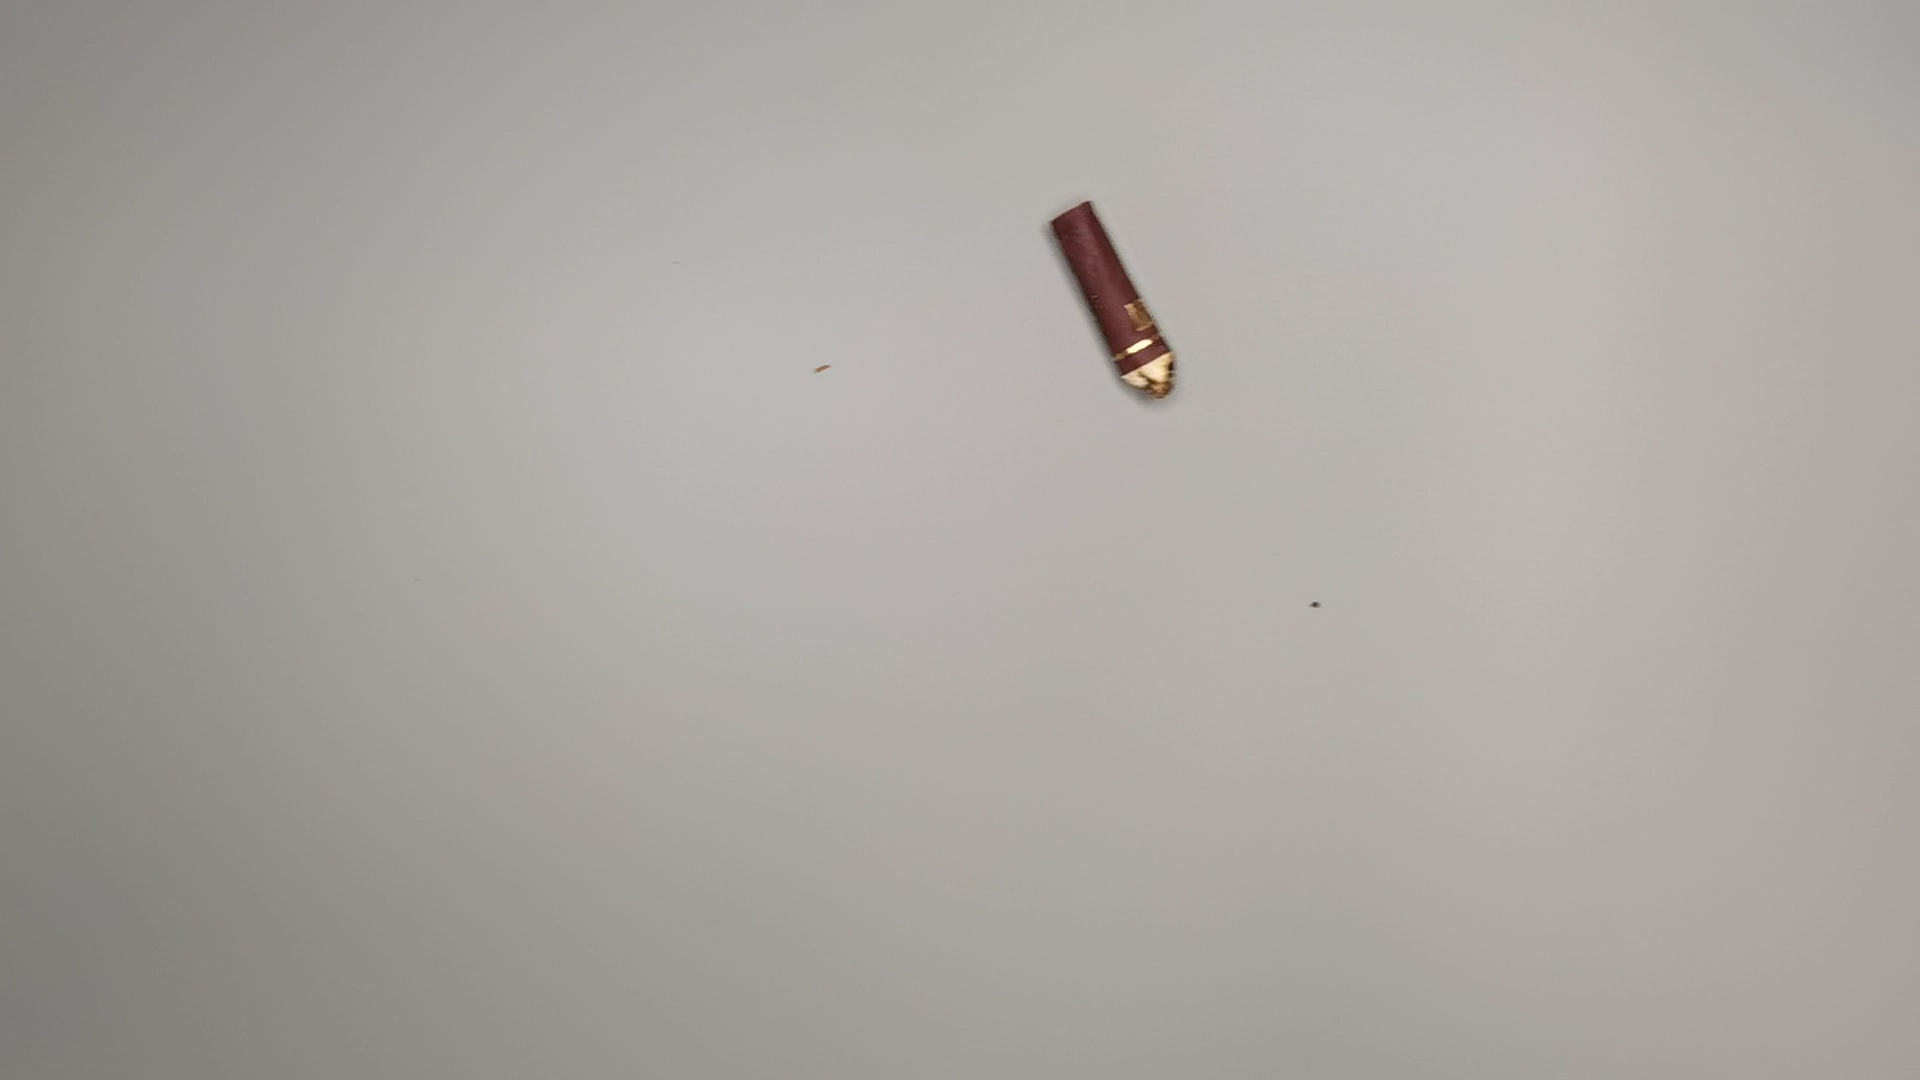cigarette: (1048, 196, 1182, 404)
